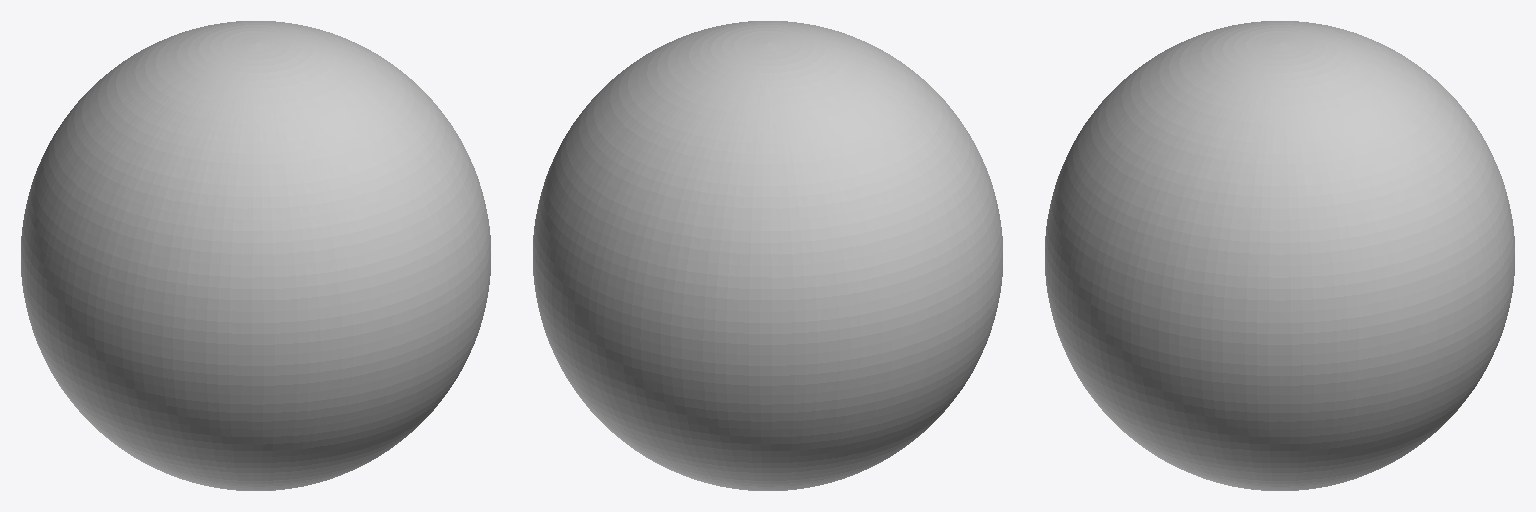
Rendered from world_smooth.obj.
The picture shows the model from 3 angles: view 1: azimuth 30°, elevation 25°; view 2: azimuth 150°, elevation 25°; view 3: azimuth 270°, elevation 25°; orthographic projection.
Visible parts, largest first — view 1: Sphere; view 2: Sphere; view 3: Sphere.
Part boxes in pixels (x1,y1,x2,y2): Sphere: (21,21,490,490); Sphere: (533,21,1002,490); Sphere: (1045,21,1514,490).
Bounding box in the file's own units: 2 × 2 × 2.